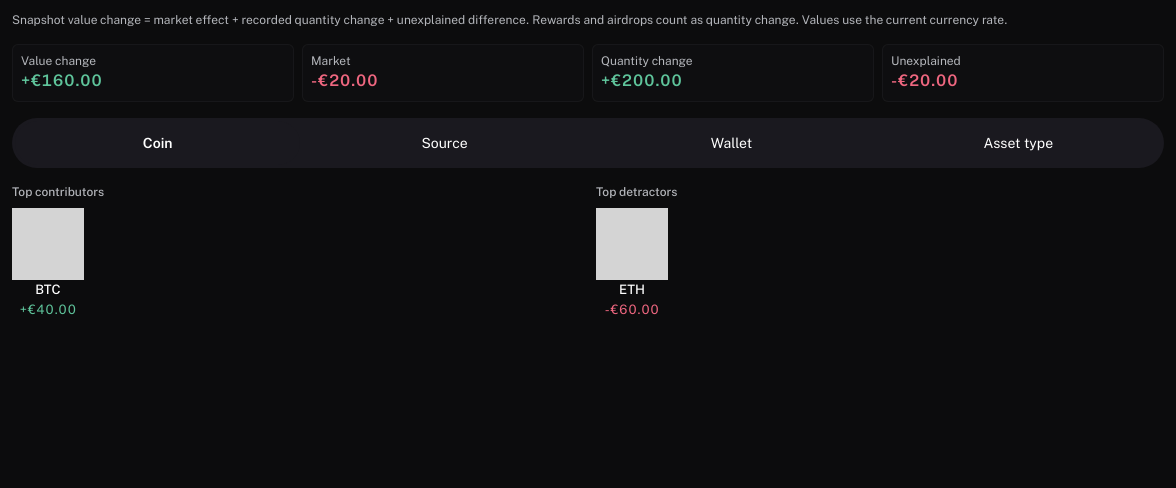
Test: profit attribution › expands grouped attribution fields beneath the phone rank
Expected: the heading "Top contributors" is shown, [12,185,104,199]
Click the button "BTC+€40.00".
click(48, 264)  # box [12,208,84,319]
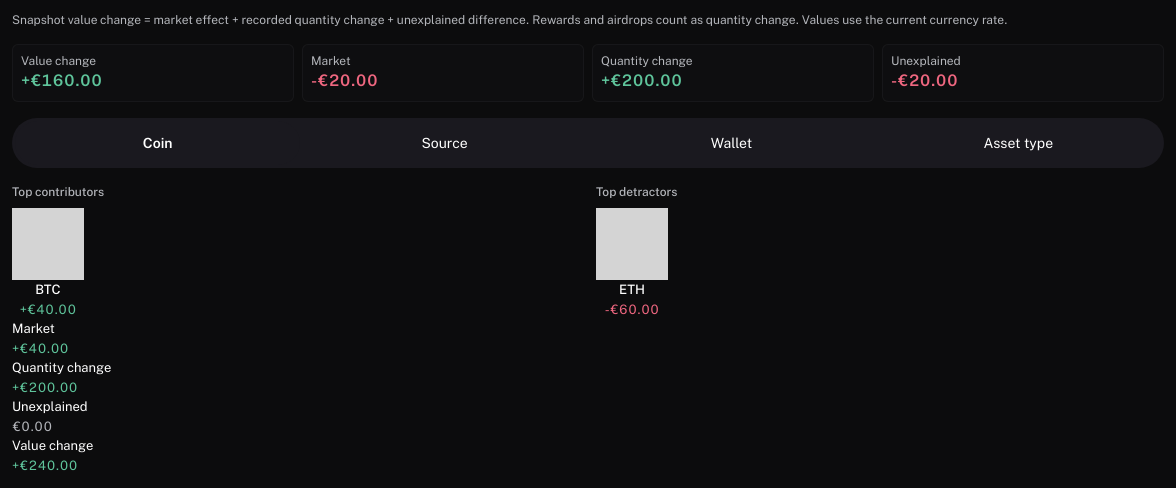
Result: the text "Quantity change" below "Top contributors" is shown at [12,360,111,375]
Result: the text "+€200.00" below "Top contributors" is shown at [12,380,78,395]
